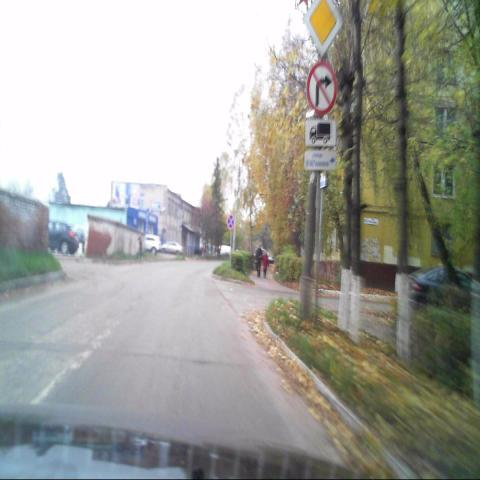3_18: (306, 60, 337, 115)
